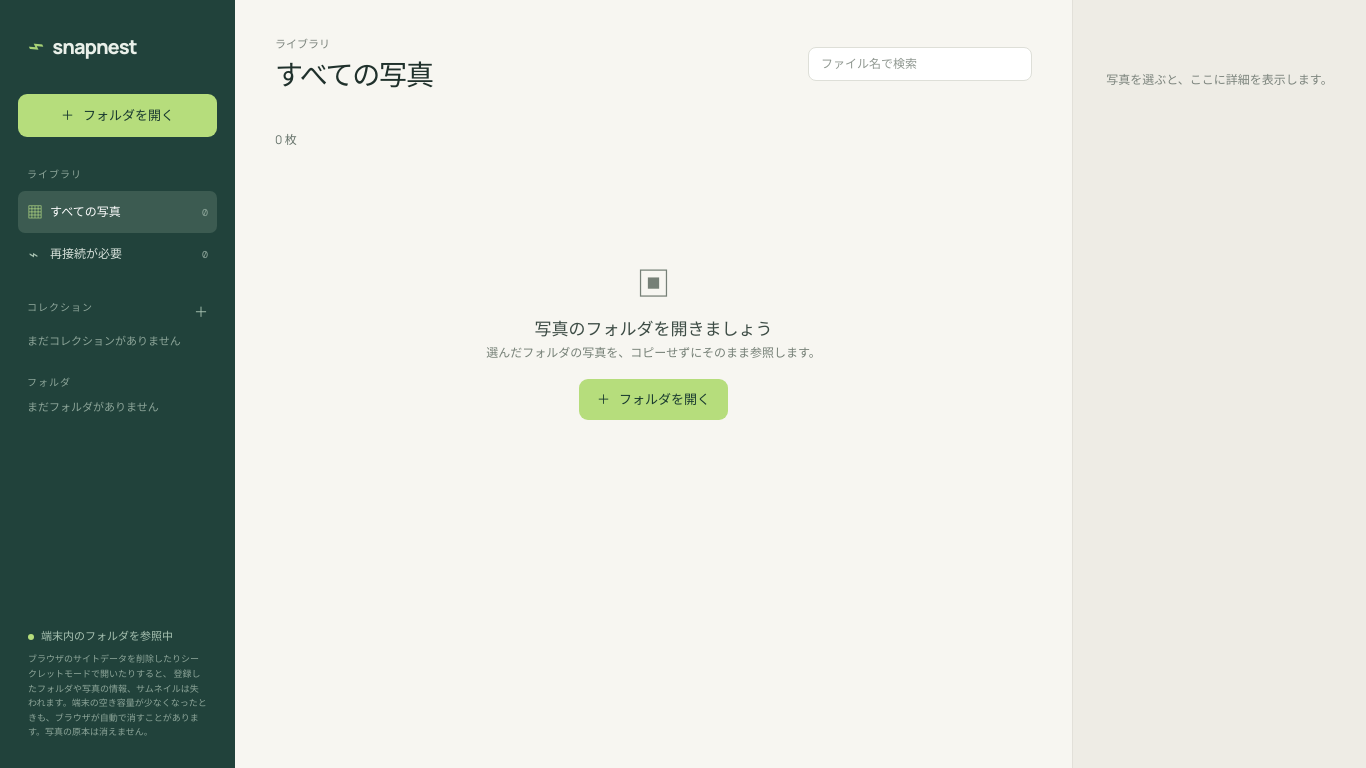
Test: App › フォルダを開く › 読み込みが途中で失敗したら、見つかった分だけ残して通知する
Click the button "＋ フォルダを開く" below "snapnest". click: click(118, 116)
box: x1=18 y1=94 x2=217 y2=137
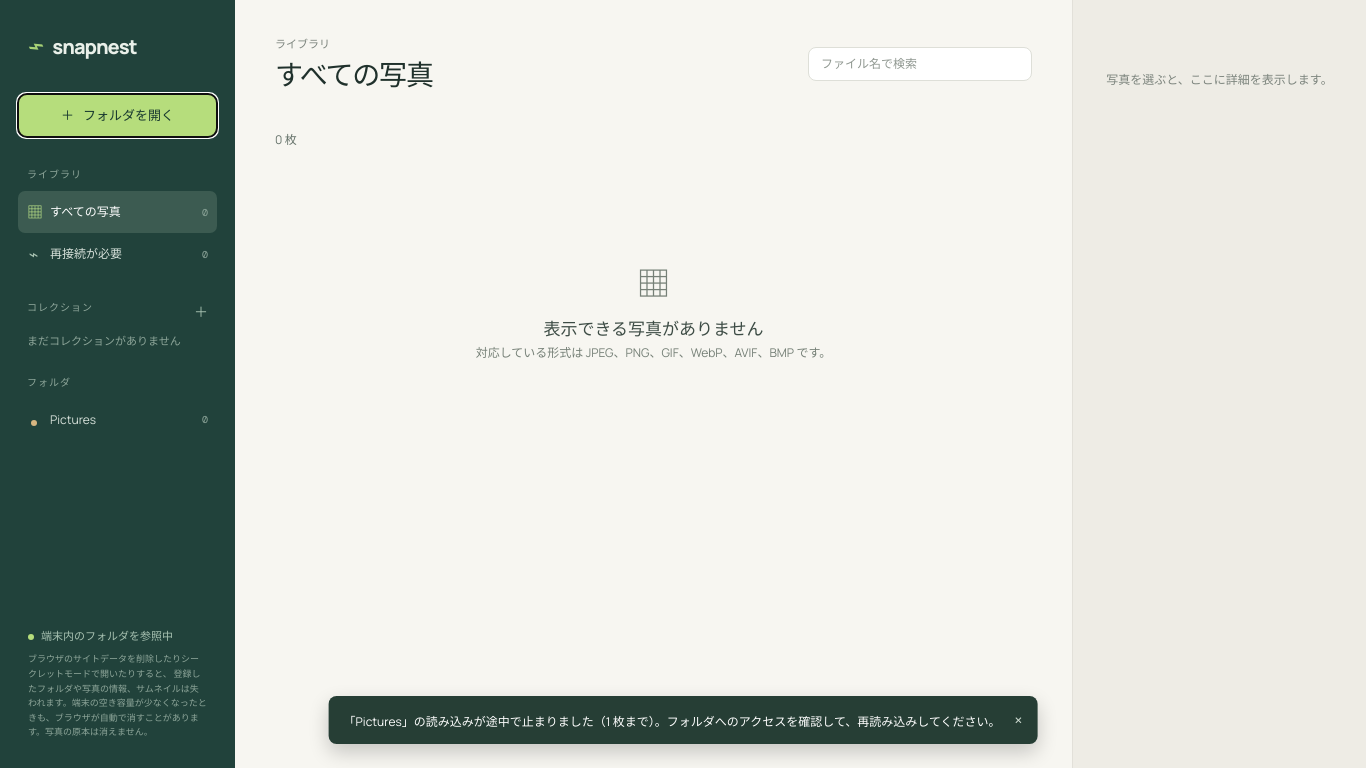
Expected: the message shows "読み込みが途中で止まりました（1 枚まで）", x1=344 y1=713 x2=1001 y2=730
Expected: the button "Pictures 0" is shown, x1=18 y1=399 x2=217 y2=441
